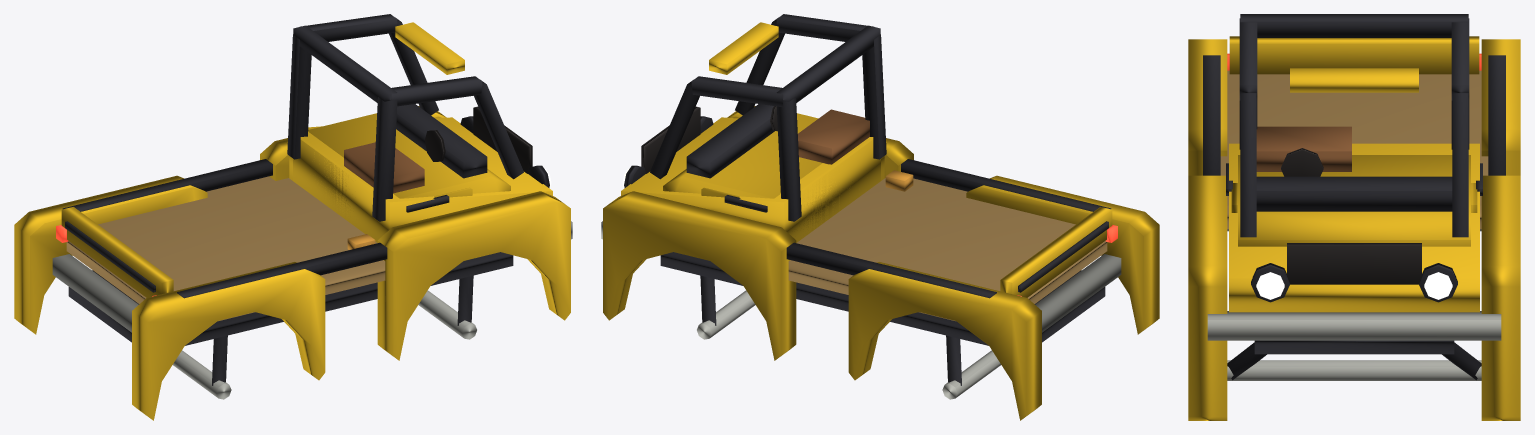
The model's file is truck_buggy_lod1.glb.
The picture shows the model from 3 angles, left to right: view 1: azimuth 30°, elevation 25°; view 2: azimuth 150°, elevation 25°; view 3: azimuth 270°, elevation 25°; orthographic projection. The views are drawn at different scales.
Parts seen in each view (by area): view 1: Ladder frame, Tailgate, Axle shaft, Axle shaft.001, Stamped half-door.001; view 2: Ladder frame, Tailgate, Axle shaft, Axle shaft.001; view 3: Ladder frame, Tailgate, Axle shaft.001, Headlamp lens, Stamped half-door.001.
Boxes of the visible parts, x1,y1,x2,y2 form: Ladder frame: (14, 14, 572, 420); Tailgate: (61, 207, 173, 297); Axle shaft: (173, 335, 231, 399); Axle shaft.001: (418, 275, 476, 339); Stamped half-door.001: (406, 187, 472, 212); Ladder frame: (601, 14, 1159, 420); Tailgate: (1000, 207, 1112, 297); Axle shaft: (942, 335, 1000, 399); Axle shaft.001: (697, 275, 755, 339); Ladder frame: (1188, 14, 1520, 420); Tailgate: (1229, 36, 1479, 74); Axle shaft.001: (1227, 342, 1481, 380); Headlamp lens: (1256, 272, 1452, 299); Stamped half-door.001: (1226, 163, 1237, 212).
Bounding box in the file's own units: 3.83 × 2.17 × 2.04.
